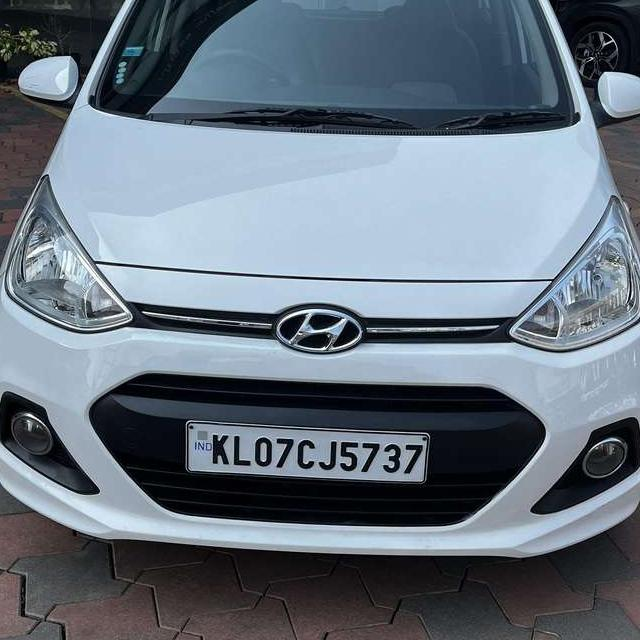Indian_Number_Plate: (186, 421, 430, 481)
